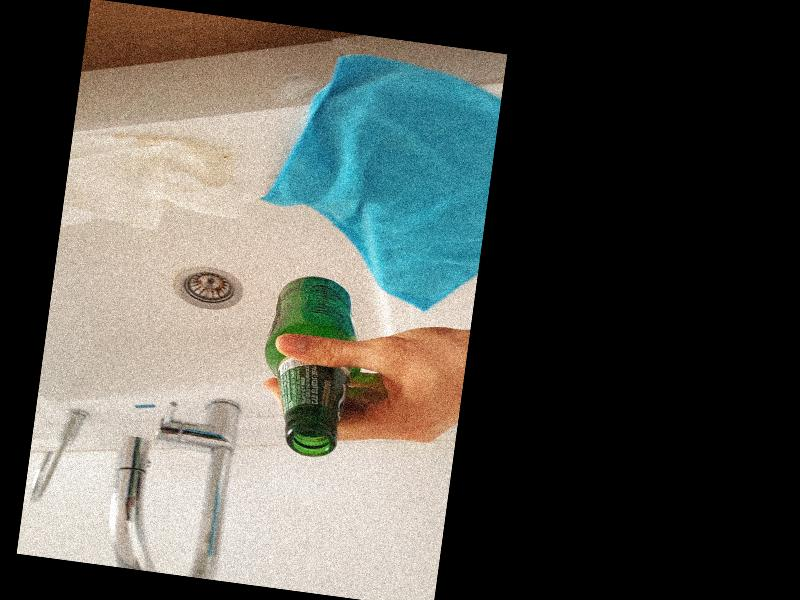Beer: (250, 269, 370, 460)
